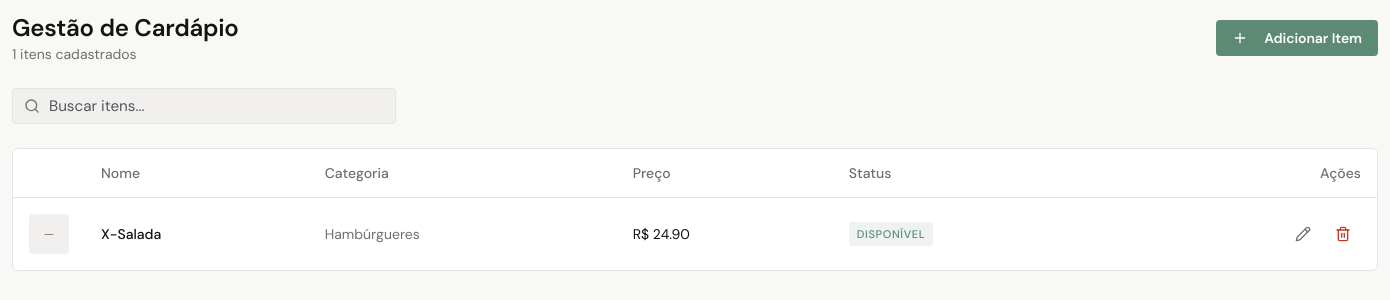
Test case: menu management API cutover › deletes through the owner-scoped API before removing the row
Expected: the text "X-Salada" is shown, [101,224,161,244]
Click the button named "Remover X-Salada" at [1343, 234], box [1325,216,1361,252]
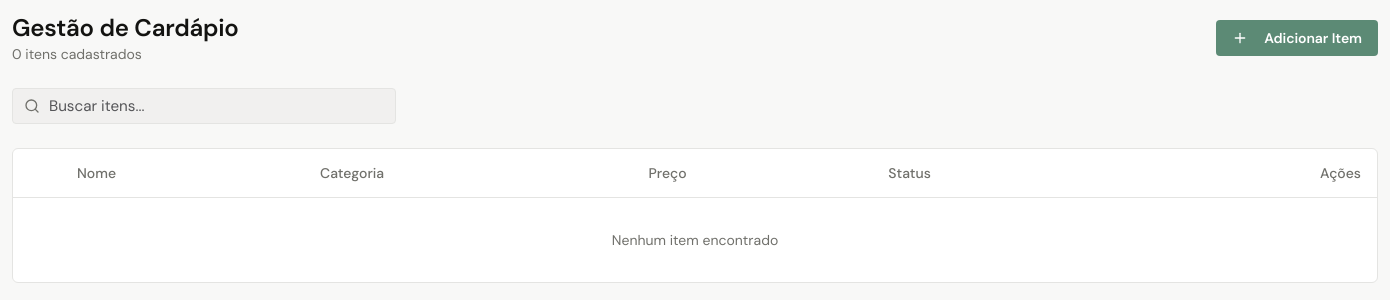
Expected: the text "X-Salada" is gone
